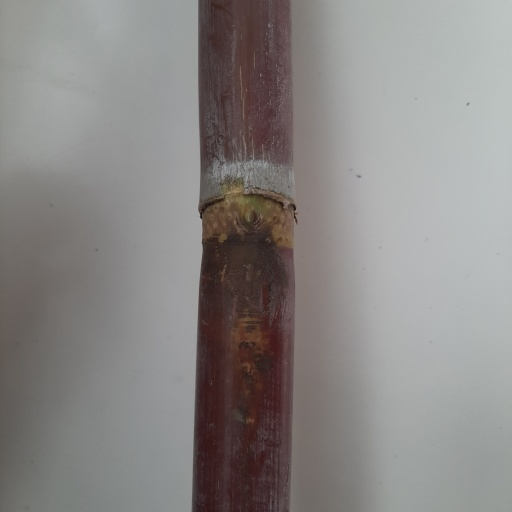Bud: (239, 202, 260, 229)
